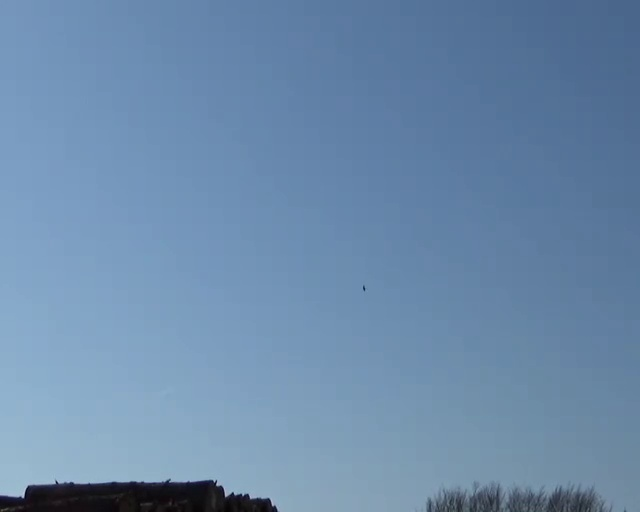BIRD: (360, 283, 369, 293)
